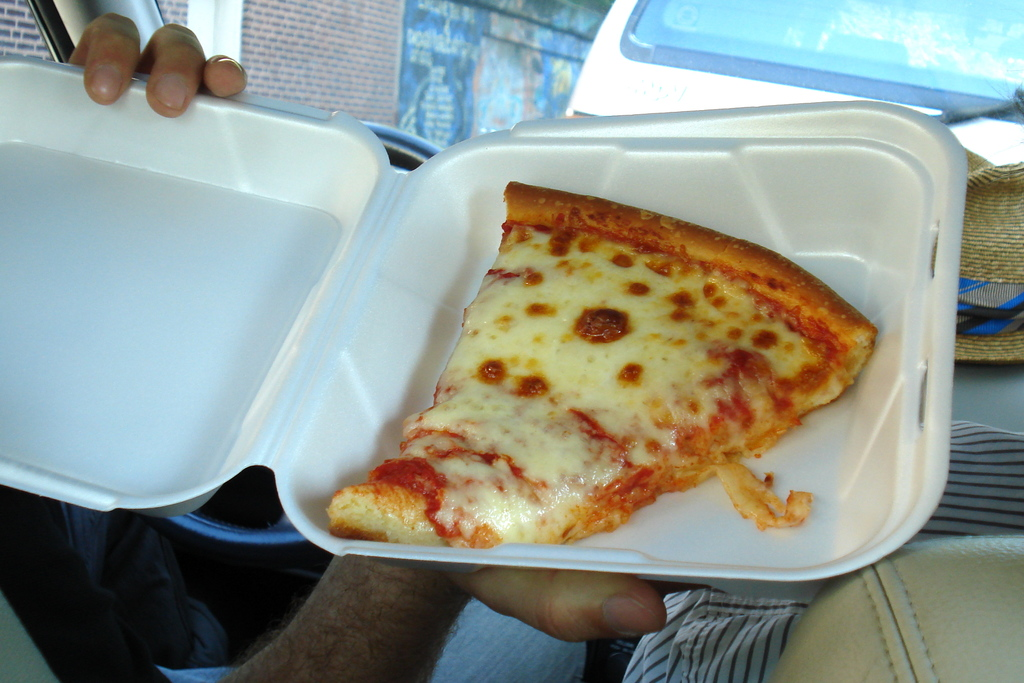Pizza: (359, 201, 879, 550)
